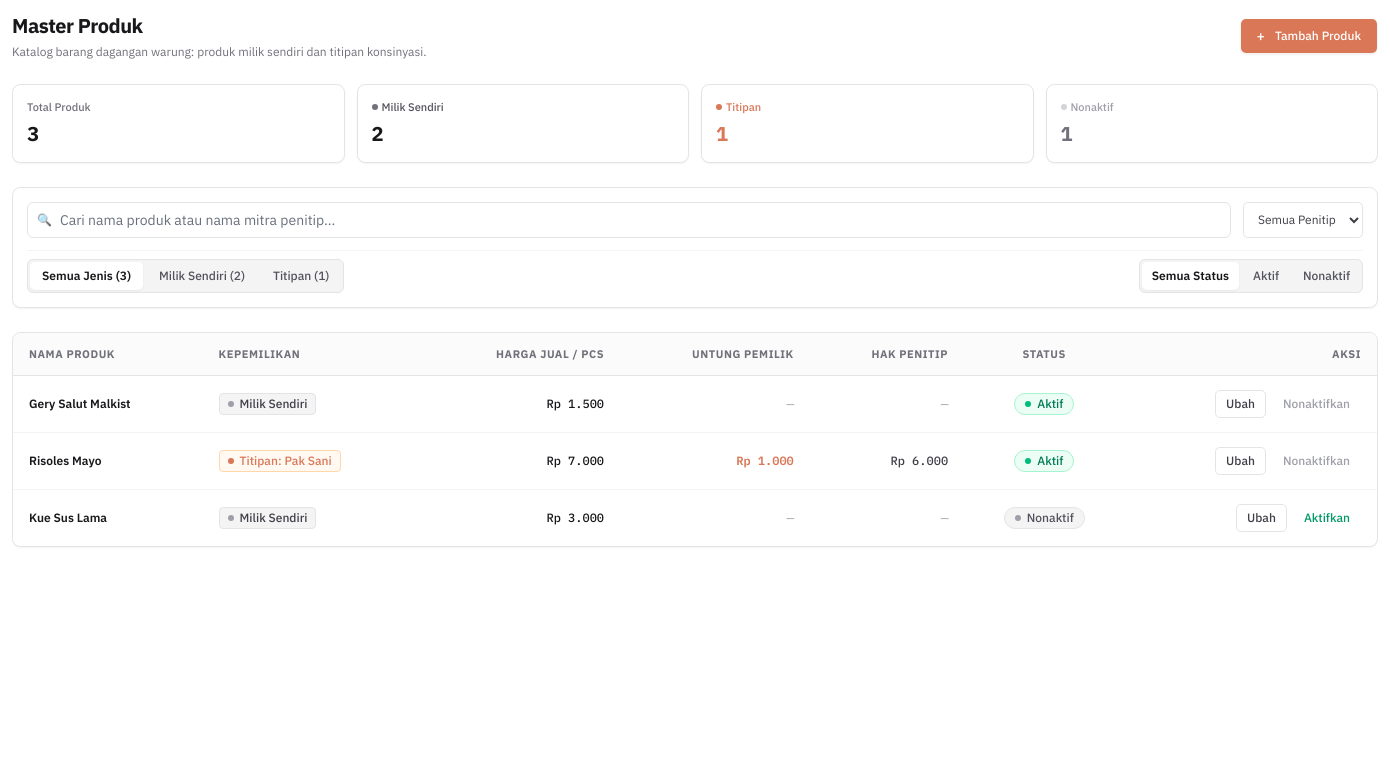
Test: ProdukPage Component › filters by ownership filter tab
Click "Milik Sendiri" filter
Click the button "Milik Sendiri (2)" at (202, 276), box [147,262,257,290]
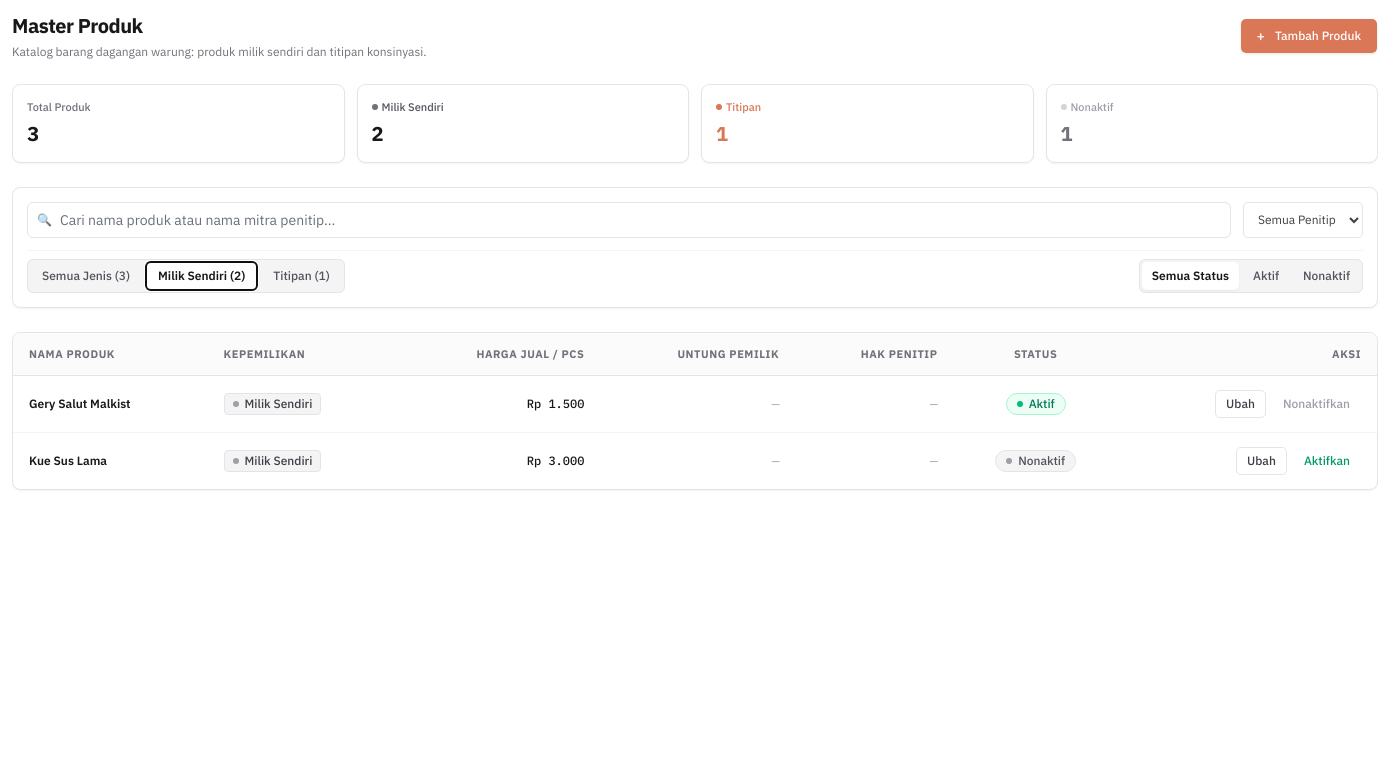
Expected: the text "Gery Salut Malkist" is shown, [29,396,131,411]
Now the text "Risoles Mayo" is not shown
Click "Titipan" filter
Click the button "Titipan (1)" at (302, 276), box [261,262,342,290]
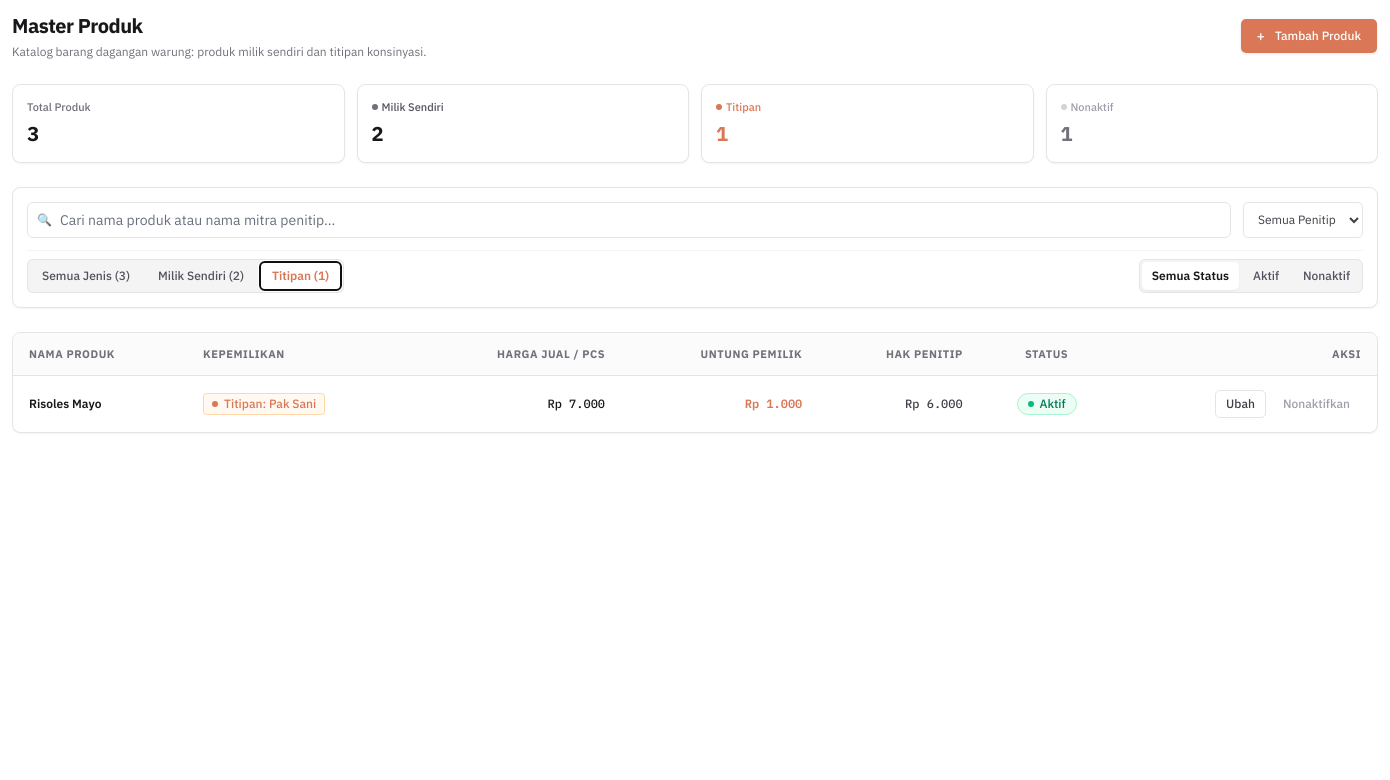
Now the text "Gery Salut Malkist" is not shown
Now the text "Risoles Mayo" is shown, box [29,396,101,411]
